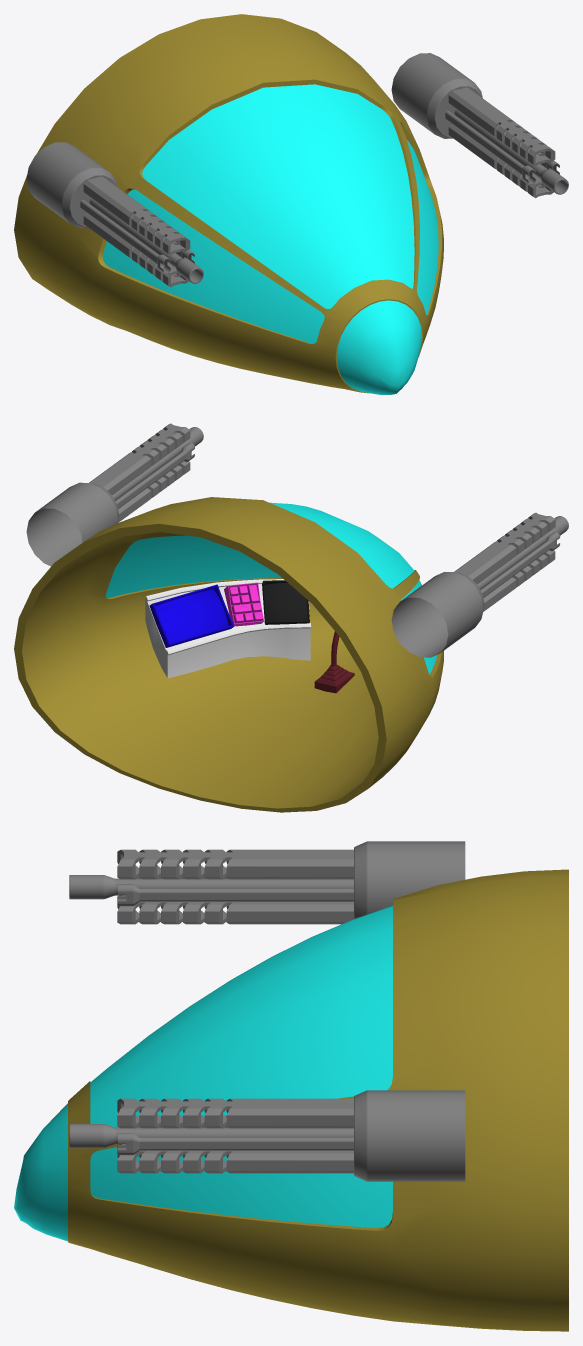
Rendered from SM_Ship.fbx.
The picture shows the model from 3 angles, top to bottom: view 1: azimuth 30°, elevation 25°; view 2: azimuth 150°, elevation 25°; view 3: azimuth 270°, elevation 25°; orthographic projection. The views are drawn at different scales.
Parts seen in each view (by area): view 1: winshield, Hull, Gun_left, Gun_right; view 2: Hull, Gun_right, Gun_left, winshield, consoles, 16:9, 1:1, Keyboard_left, joystick_base; view 3: Hull, winshield, Gun_left, Gun_right.
Boxes of the visible parts, x1,y1,x2,y2 form: winshield: (102, 84, 438, 394); Hull: (14, 14, 443, 393); Gun_left: (391, 53, 568, 197); Gun_right: (26, 142, 203, 287); Hull: (14, 497, 443, 812); Gun_right: (391, 512, 568, 657); Gun_left: (26, 423, 203, 566); winshield: (105, 502, 436, 674); consoles: (145, 579, 311, 678); 16:9: (149, 584, 234, 647); 1:1: (262, 580, 309, 624); Keyboard_left: (224, 582, 263, 626); joystick_base: (314, 665, 354, 693); Hull: (68, 869, 568, 1331); winshield: (14, 905, 392, 1241); Gun_left: (69, 1090, 465, 1181); Gun_right: (69, 841, 465, 924).
Bounding box in the file's own units: 419 × 258 × 342.
